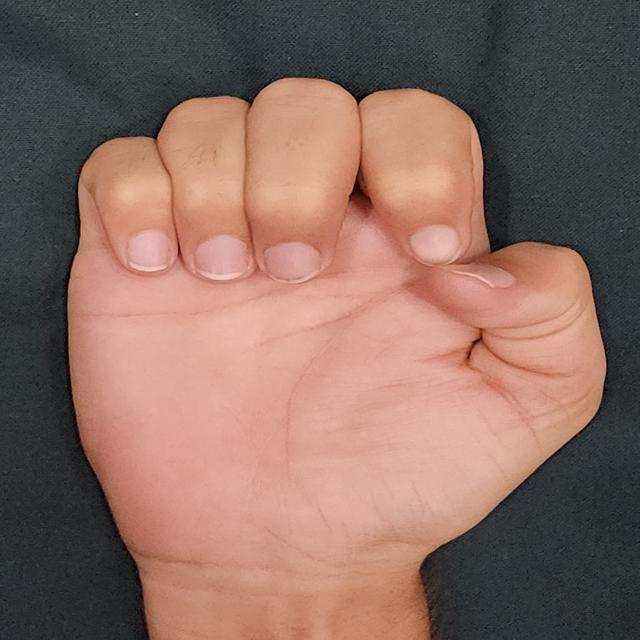ذ: (45, 57, 640, 632)
